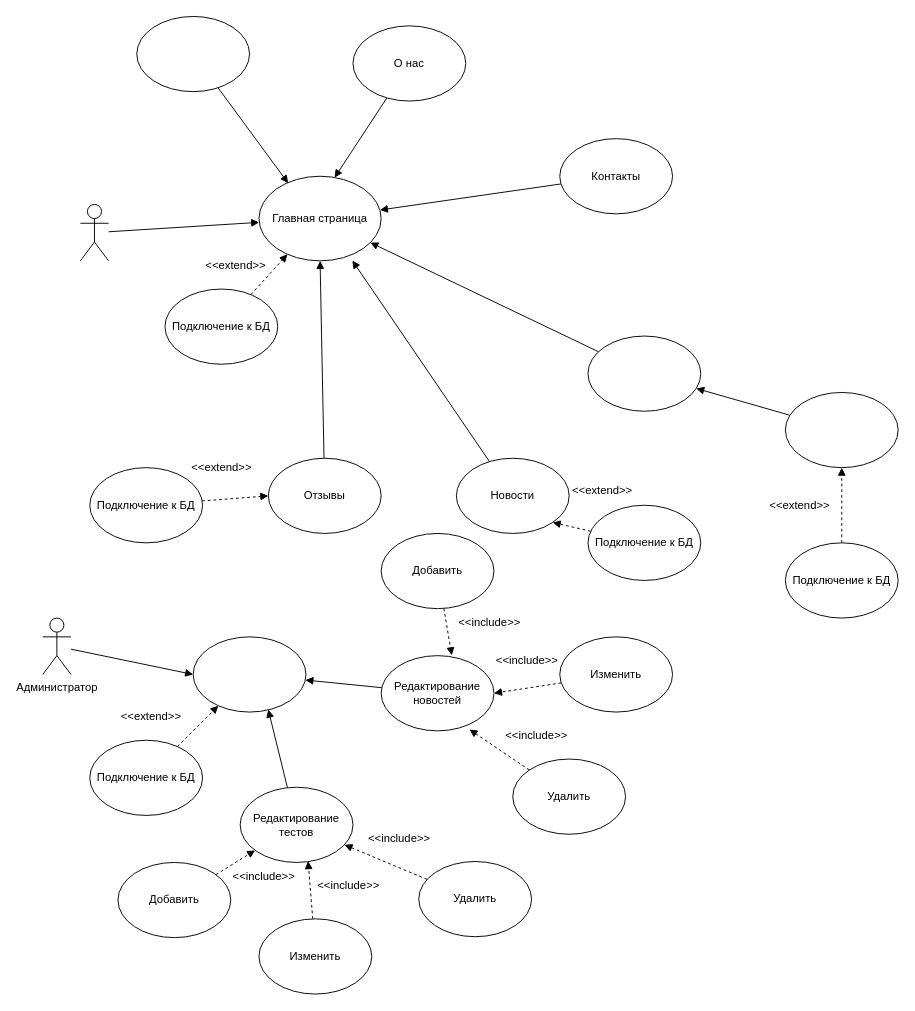
The diagram is 915 pixels wide and 1011 high, and some of its shapes have lost their labels. Each missing label, with the box of its shape:
https://det.pravo.by//Admin/Admin: (192, 636, 306, 712)
Игры: (587, 335, 701, 411)
Пользователь: (79, 204, 109, 261)
Правовая библиотека: (136, 16, 250, 92)
Тесты: (784, 392, 898, 468)
